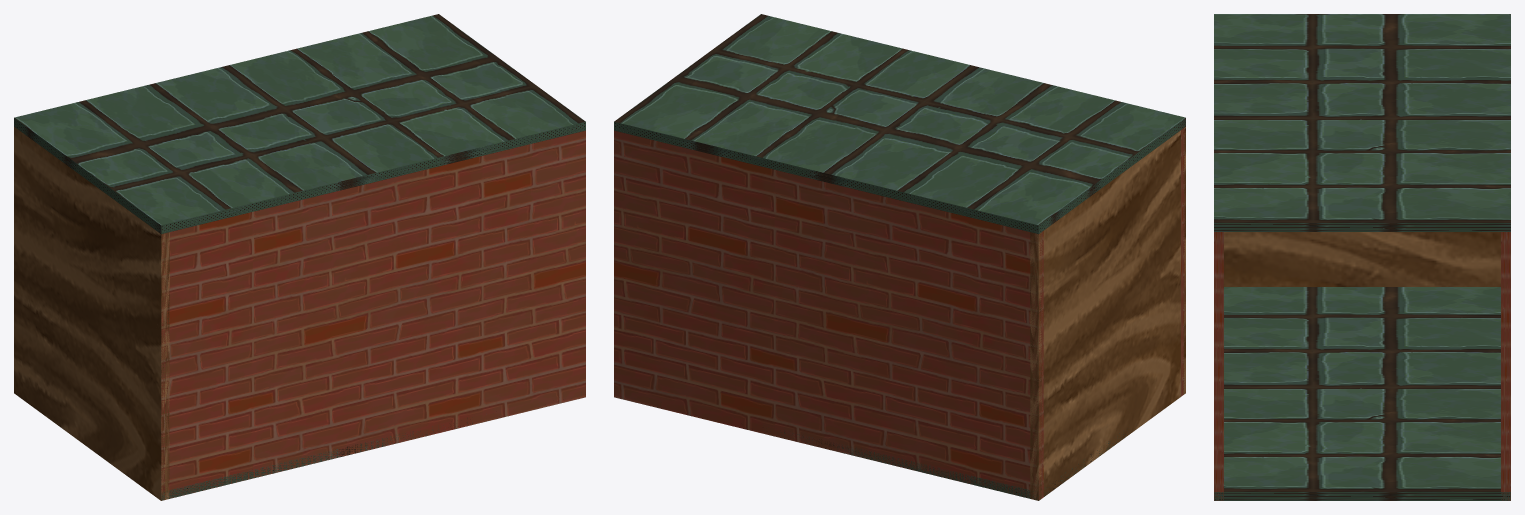
File: SmallRoomBase.glb
3 renders of one model, left to right at view 1: azimuth 30°, elevation 25°; view 2: azimuth 150°, elevation 25°; view 3: azimuth 270°, elevation 25°, orthographic.
Parts seen in each view (by area): view 1: Left, Ceiling, Back, Floor; view 2: Right, Ceiling, Back, Floor, Left; view 3: Ceiling, Floor, Back, Left, Right.
Part boxes in pixels (x1,y1,x2,y2): Left: [157, 130, 585, 499]; Ceiling: [14, 14, 585, 234]; Back: [14, 127, 169, 500]; Floor: [161, 398, 571, 500]; Right: [614, 130, 1043, 500]; Ceiling: [614, 14, 1185, 234]; Back: [1030, 127, 1185, 500]; Floor: [657, 407, 1135, 500]; Left: [1181, 128, 1185, 396]; Ceiling: [1214, 14, 1510, 231]; Floor: [1214, 287, 1510, 500]; Back: [1224, 232, 1500, 286]; Left: [1214, 232, 1223, 500]; Right: [1501, 232, 1510, 500].
Bounding box in the file's own units: 5 × 3.1 × 3.
3 materials, 3 textured.
